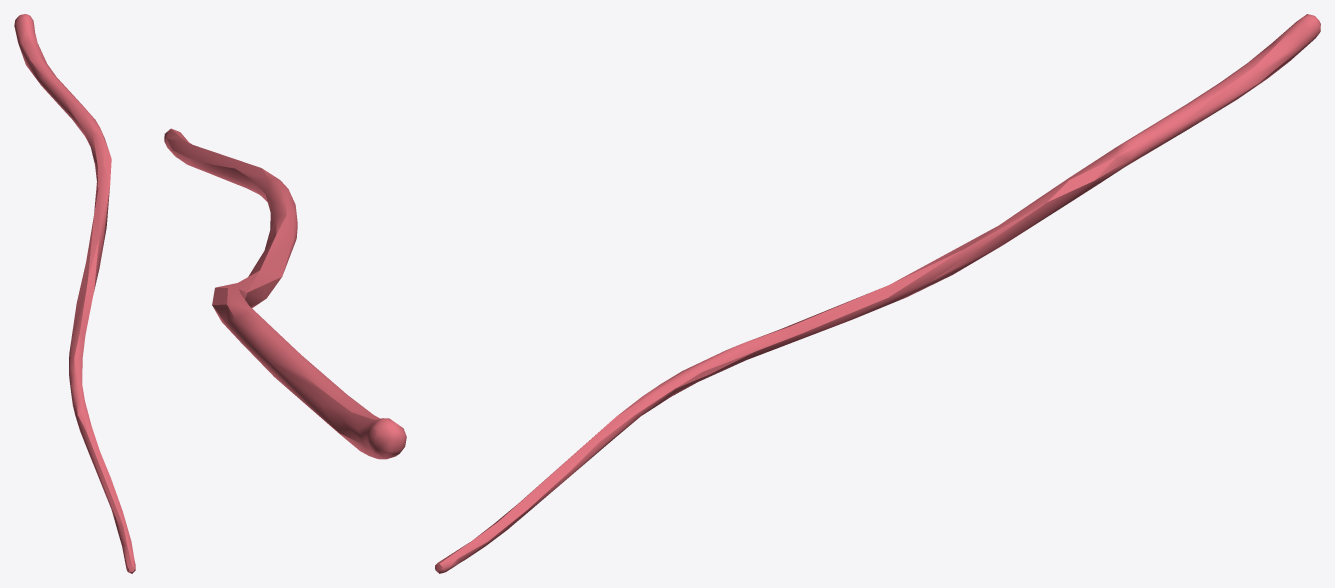
The model's file is fma51884_fj4985.glb.
The picture shows the model from 3 angles, left to right: view 1: azimuth 30°, elevation 25°; view 2: azimuth 210°, elevation 25°; view 3: azimuth 330°, elevation 25°; orthographic projection. The views are drawn at different scales.
Visible parts, largest first — view 1: FMA51884_FJ4985; view 2: FMA51884_FJ4985; view 3: FMA51884_FJ4985.
Boxes of the visible parts, left/top/right/bottom form: FMA51884_FJ4985: left=14, top=14, right=135, bottom=573; FMA51884_FJ4985: left=164, top=128, right=406, bottom=459; FMA51884_FJ4985: left=435, top=14, right=1320, bottom=573.
Size of the model in its own units: 0.00969 by 0.00679 by 0.0227.
